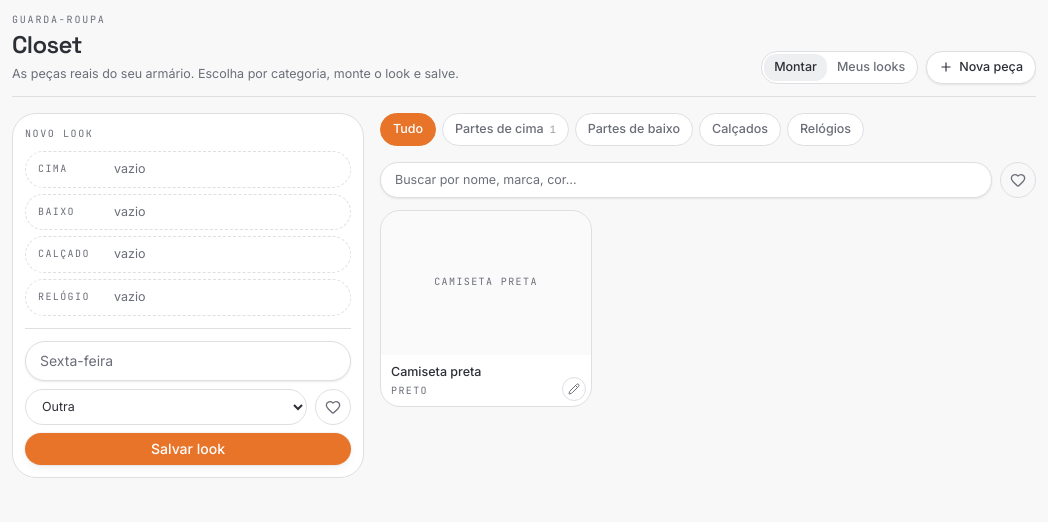
building a look › puts a clicked piece into its slot immediately
Check: the 1st text "vazio" is shown, box [114, 160, 145, 179]
Click the button "Camiseta preta Camiseta preta preto" at coordinates (486, 308), box [380, 210, 592, 407]
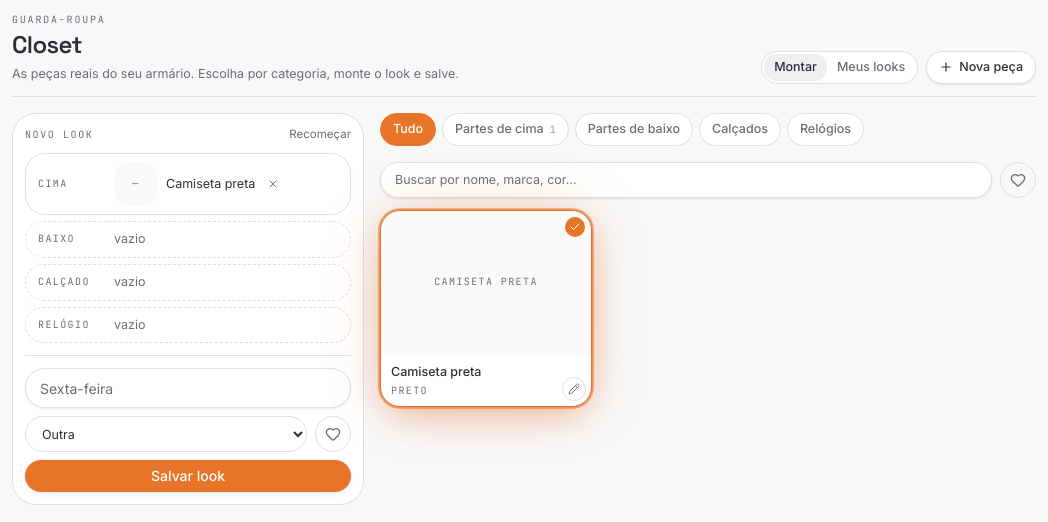
Check: the 1st text "vazio" is shown, box [114, 230, 145, 249]
Check: the text "Camiseta preta" below "Novo look" is shown, box [166, 176, 255, 191]
